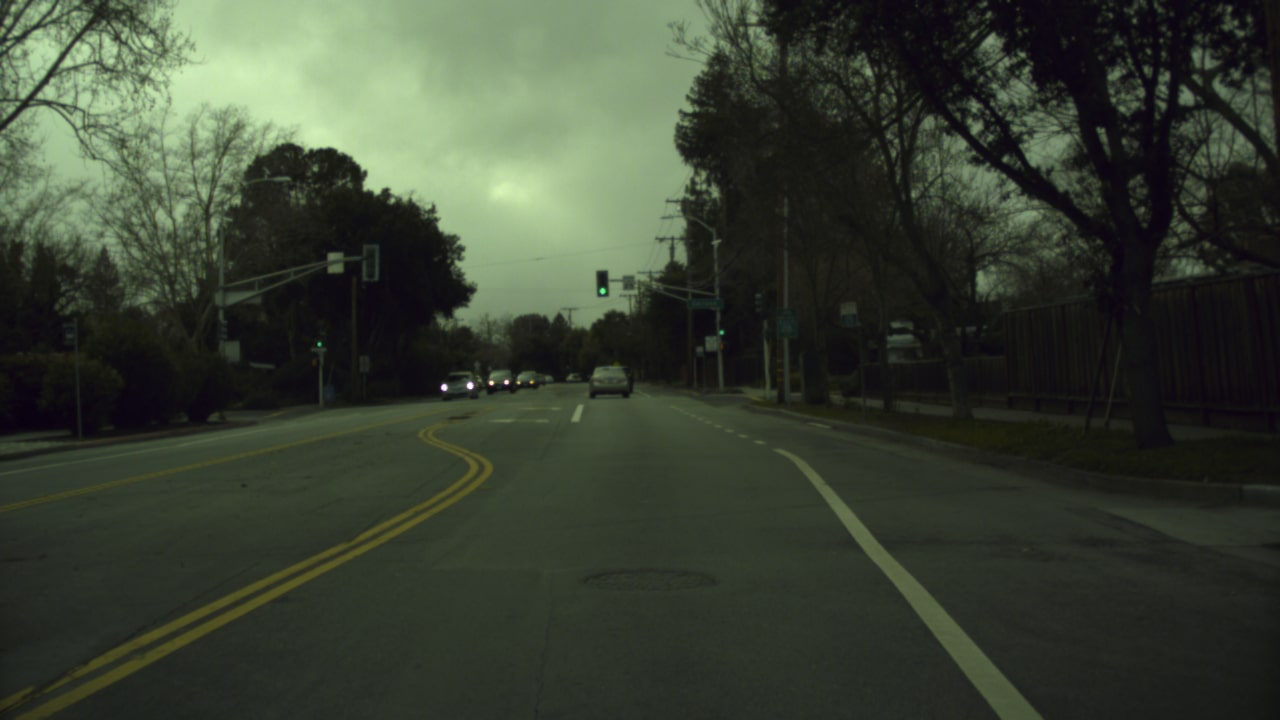signal: (595, 268, 609, 298), (310, 336, 324, 351), (713, 325, 726, 341)
